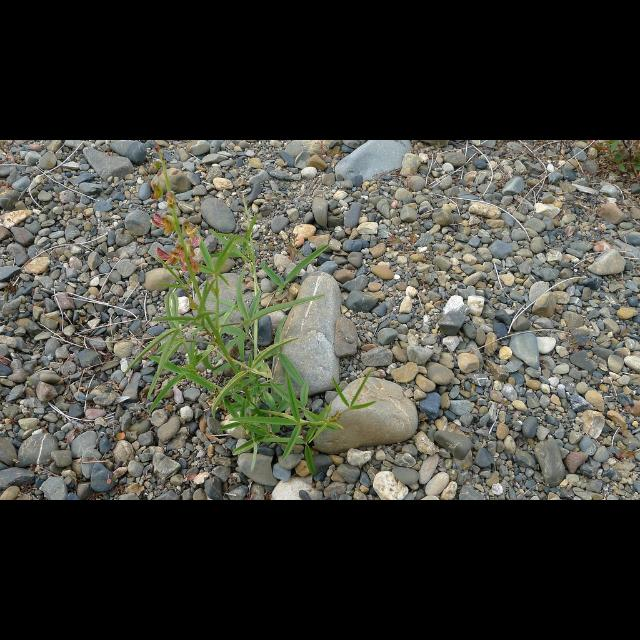Flower: (180, 214, 200, 272), (151, 213, 181, 247), (154, 245, 188, 265)
